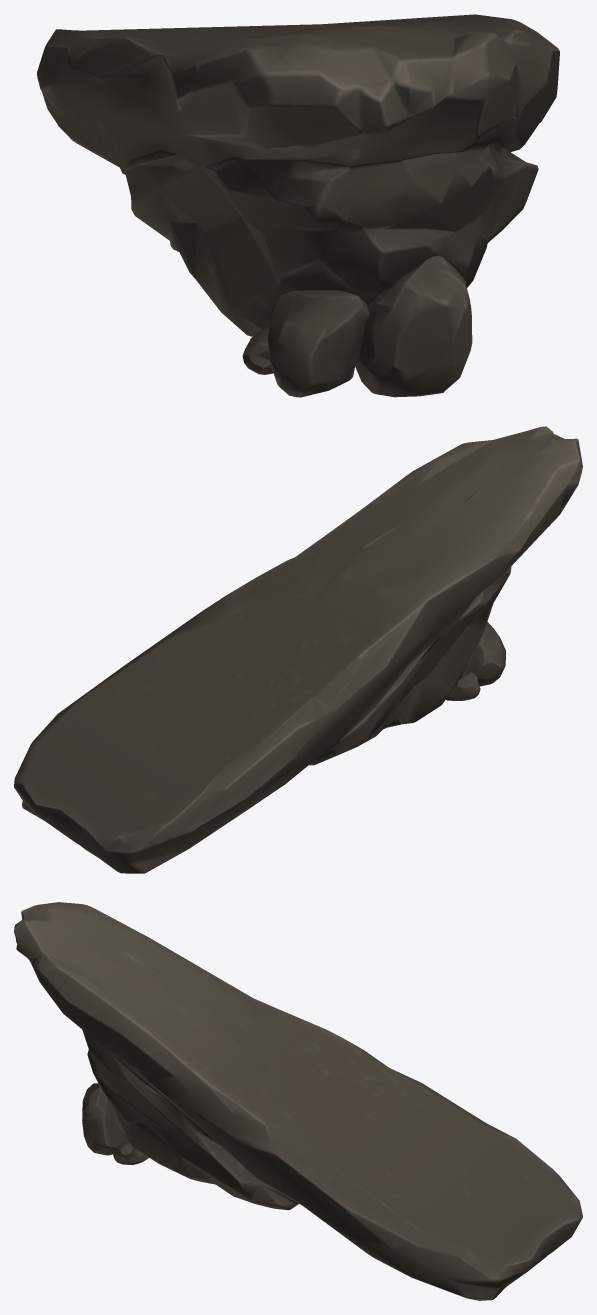
File: Udrock04.fbx
3 renders of one model, top to bottom at view 1: azimuth 30°, elevation 25°; view 2: azimuth 150°, elevation 25°; view 3: azimuth 270°, elevation 25°, orthographic. The views are drawn at different scales.
Visible parts, largest first — view 1: drock04; view 2: drock04; view 3: drock04.
Part boxes in pixels (x1,y1,x2,y2): drock04: [37, 14, 559, 397]; drock04: [14, 426, 582, 873]; drock04: [14, 902, 582, 1300].
Bounding box in the file's own units: 3302 × 2464 × 4955.
Materials: 1 (1 with a texture image).
